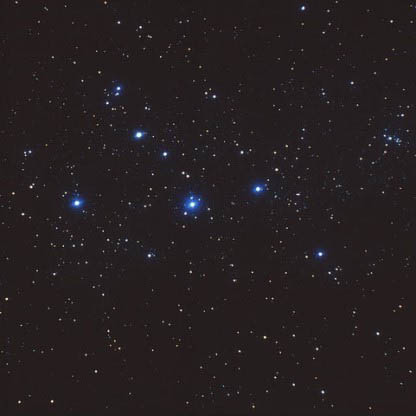Cassiopeia: (132, 124, 176, 166), (177, 186, 209, 218), (244, 173, 276, 204), (67, 179, 88, 217), (306, 236, 329, 268)
